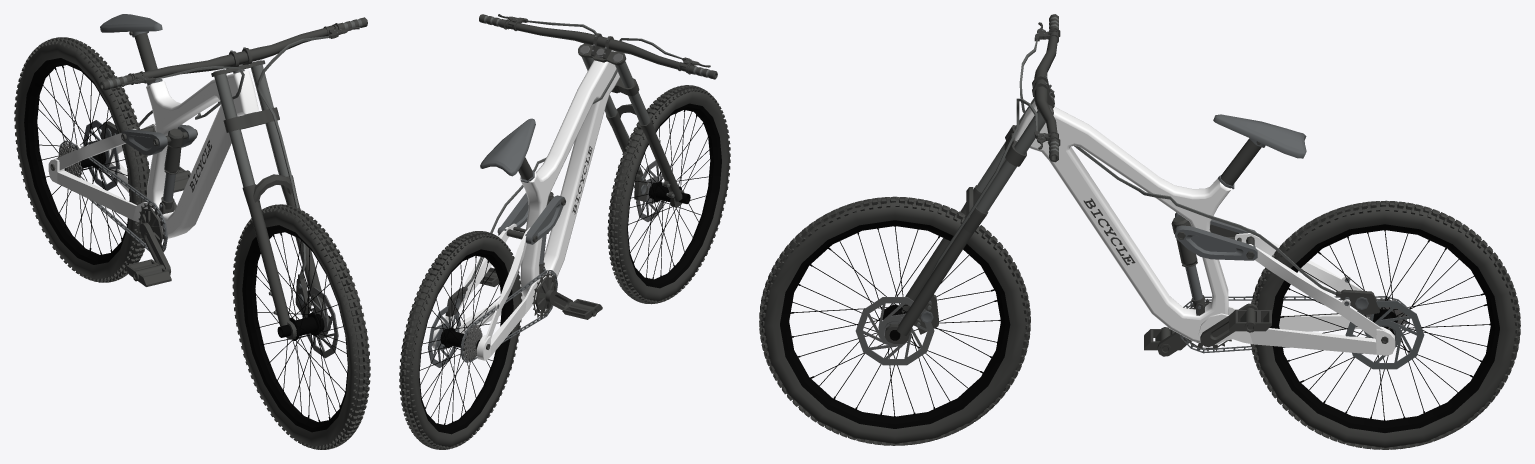
Rendered from sf-bike.glb.
3 renders of one model, left to right at view 1: azimuth 30°, elevation 25°; view 2: azimuth 150°, elevation 25°; view 3: azimuth 270°, elevation 25°, orthographic. The views are drawn at different scales.
Visible parts, largest first — view 1: wheel_f, body, wheel_r, fork, crank, pedal_r; view 2: body, wheel_r, wheel_f, fork, crank, pedal_r; view 3: body, wheel_f, wheel_r, fork, crank, pedal_l.
Part boxes in pixels (left/top/right/bottom): wheel_f: left=232, top=204, right=370, bottom=449; body: left=48, top=14, right=258, bottom=252; wheel_r: left=14, top=37, right=149, bottom=282; fork: left=100, top=17, right=367, bottom=339; crank: left=138, top=200, right=176, bottom=274; pedal_r: left=126, top=259, right=171, bottom=286; body: left=432, top=38, right=682, bottom=362; wheel_r: left=399, top=231, right=522, bottom=449; wheel_f: left=607, top=85, right=730, bottom=304; fork: left=479, top=14, right=717, bottom=207; crank: left=498, top=271, right=572, bottom=318; pedal_r: left=562, top=299, right=602, bottom=319; body: left=1014, top=39, right=1409, bottom=355; wheel_f: left=759, top=196, right=1030, bottom=445; wheel_r: left=1250, top=200, right=1520, bottom=449; fork: left=885, top=14, right=1060, bottom=343; crank: left=1157, top=299, right=1258, bottom=356; pedal_l: left=1229, top=307, right=1271, bottom=332.
Size of what is drawn, in the model's own units: 0.8778 by 1.08 by 2.02.
Materials: 3 (1 with a texture image).
